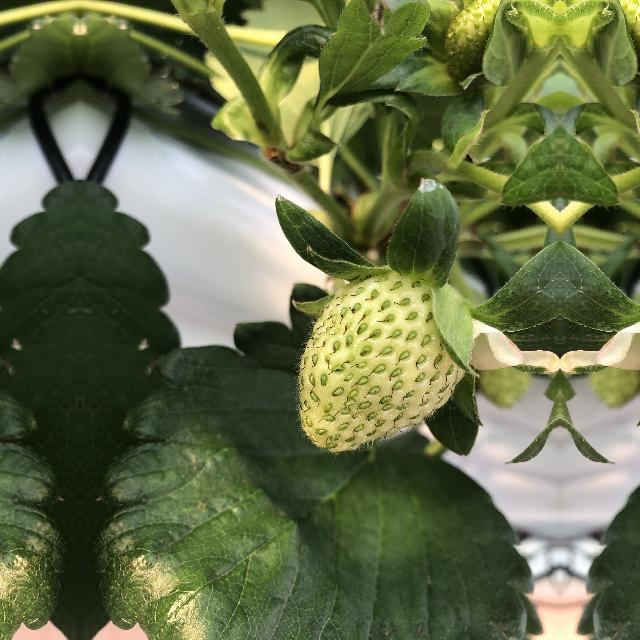Health_25: (300, 260, 472, 464)
